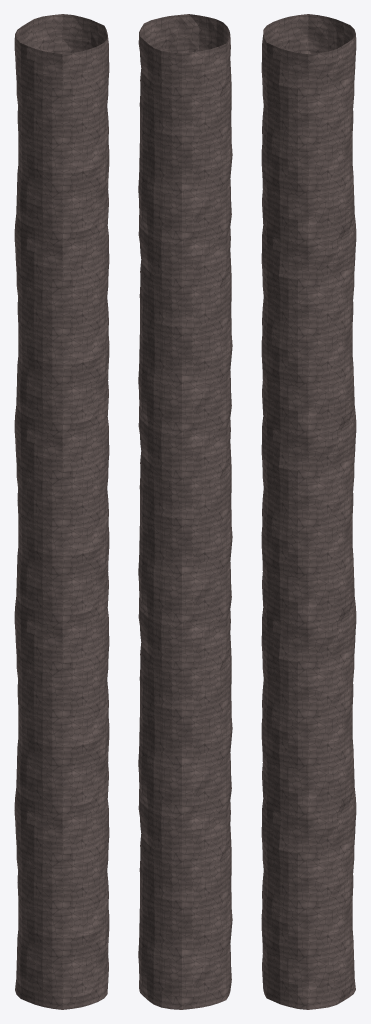
The model's file is Circle6Walls.obj.
3 views of the same model, side by side, from view 1: azimuth 90°, elevation 25°; view 2: azimuth 150°, elevation 25°; view 3: azimuth 270°, elevation 25° (orthographic).
Visible parts, largest first — view 1: Circle6Walls; view 2: Circle6Walls; view 3: Circle6Walls.
Boxes of the visible parts, x1,y1,x2,y2 form: Circle6Walls: (14,14,109,1009); Circle6Walls: (138,14,232,1009); Circle6Walls: (261,14,356,1009).
Bounding box in the file's own units: 36.12 × 400 × 36.03.
Materials: 1 (1 with a texture image).
